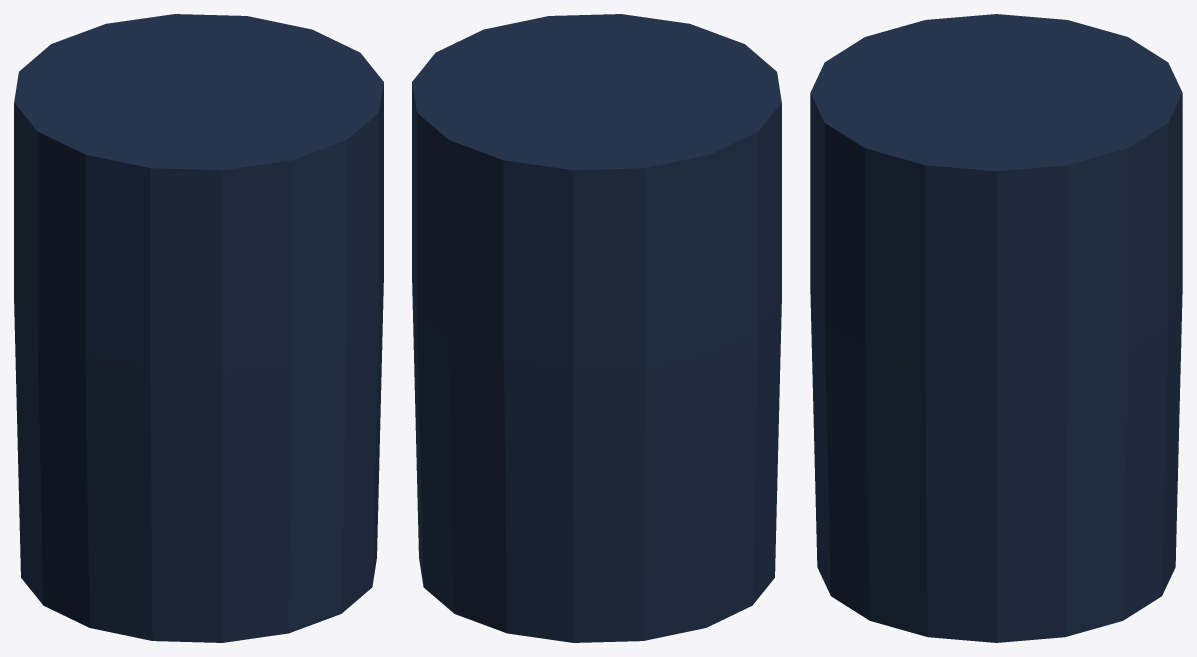
File: JeansLower_L.obj
3 renders of one model, left to right at view 1: azimuth 30°, elevation 25°; view 2: azimuth 150°, elevation 25°; view 3: azimuth 270°, elevation 25°, orthographic.
Visible parts, largest first — view 1: JeansLower_L; view 2: JeansLower_L; view 3: JeansLower_L.
Boxes of the visible parts, x1=… form: JeansLower_L: x1=14, y1=14, x2=383, y2=642; JeansLower_L: x1=412, y1=14, x2=781, y2=642; JeansLower_L: x1=810, y1=14, x2=1182, y2=642.
Bounding box in the file's own units: 0.27 × 0.38 × 0.27.
